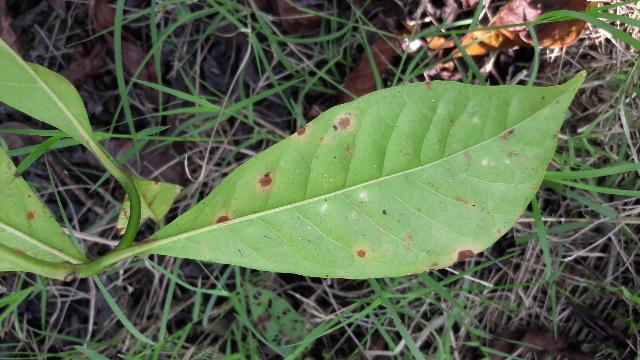rust_level_2: (127, 76, 580, 279)
